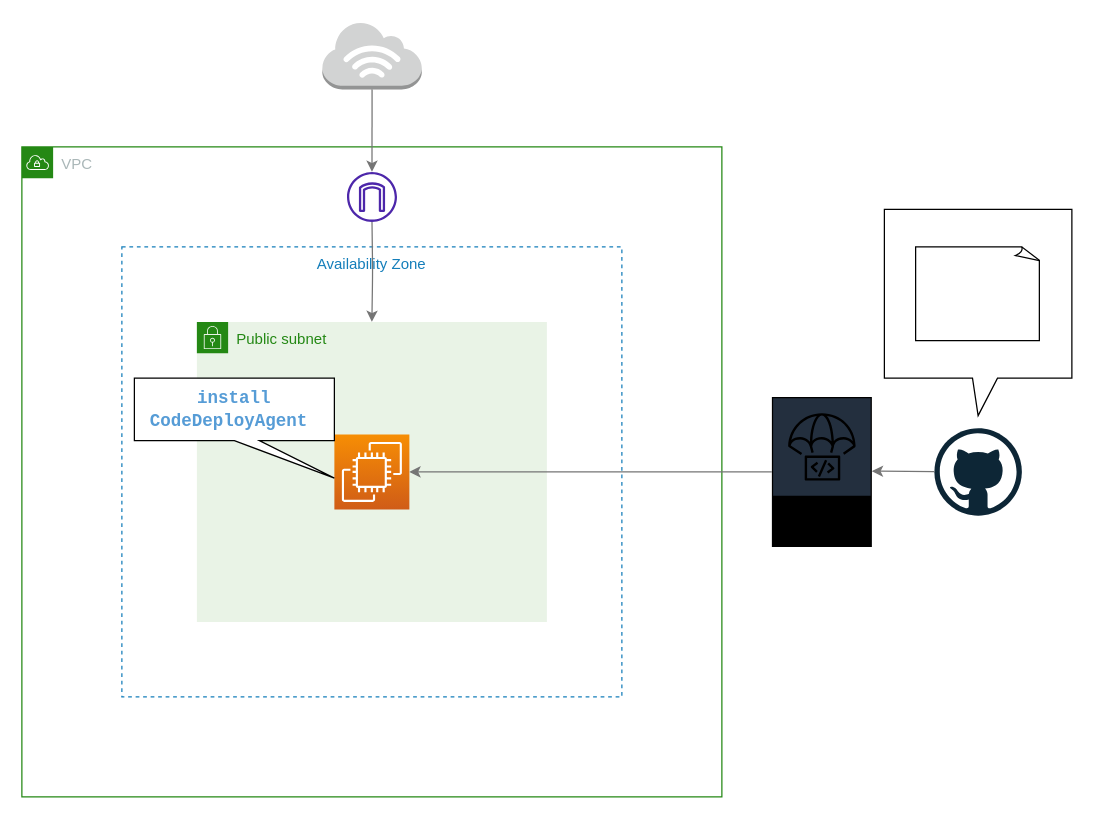
Some shapes in this 1094 by 819 pixel diagram are drawn without their labels. Here are the shapes that lost their labels. From the top down, the centre of each, then its label:
At pixel 977 293: "appspec.yml hogehoge.html".
At pixel 821 471: "AWS CodeDeploy".
